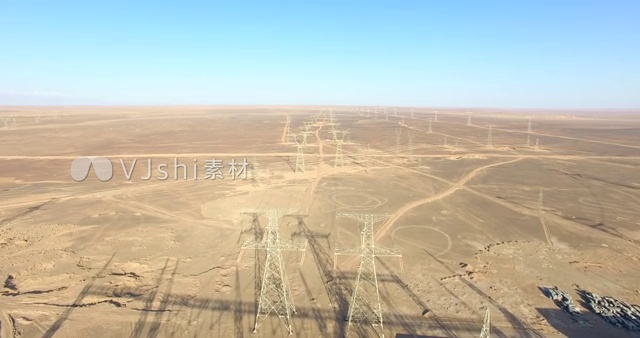tower_body: (233, 199, 310, 338), (334, 206, 406, 338), (283, 124, 321, 181)
tower_foot: (254, 303, 301, 336), (345, 309, 389, 335), (294, 158, 310, 178)
tower_head: (237, 203, 304, 221), (336, 209, 401, 226), (287, 129, 313, 147)
